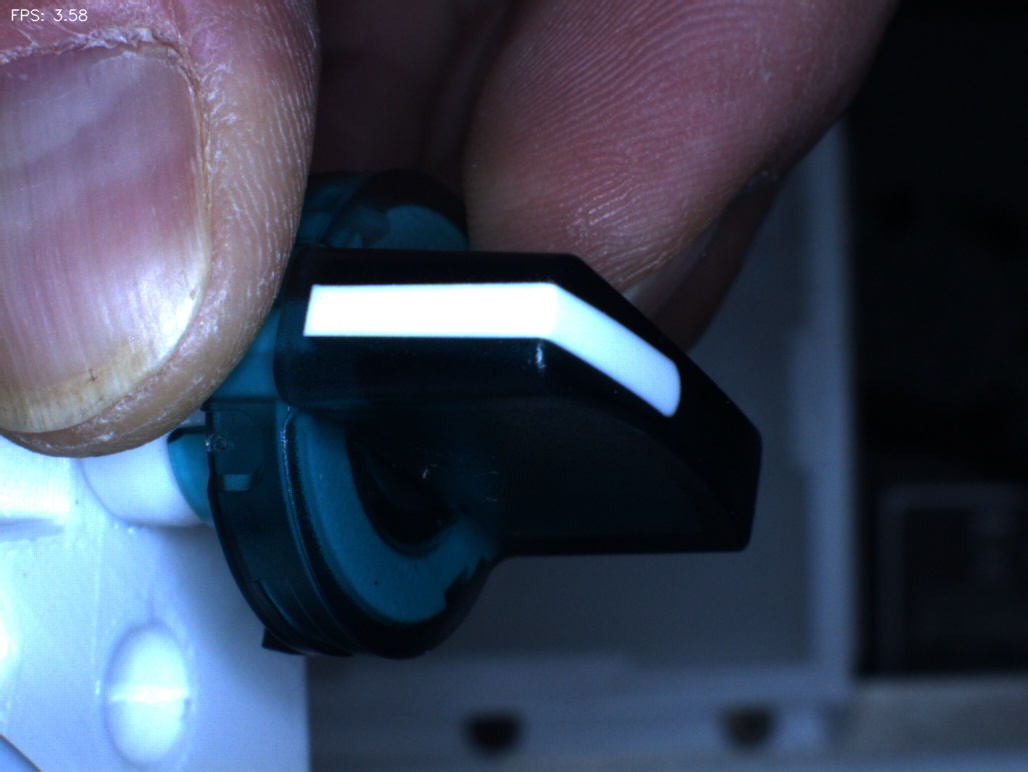PointNoir: (344, 549, 411, 613)
